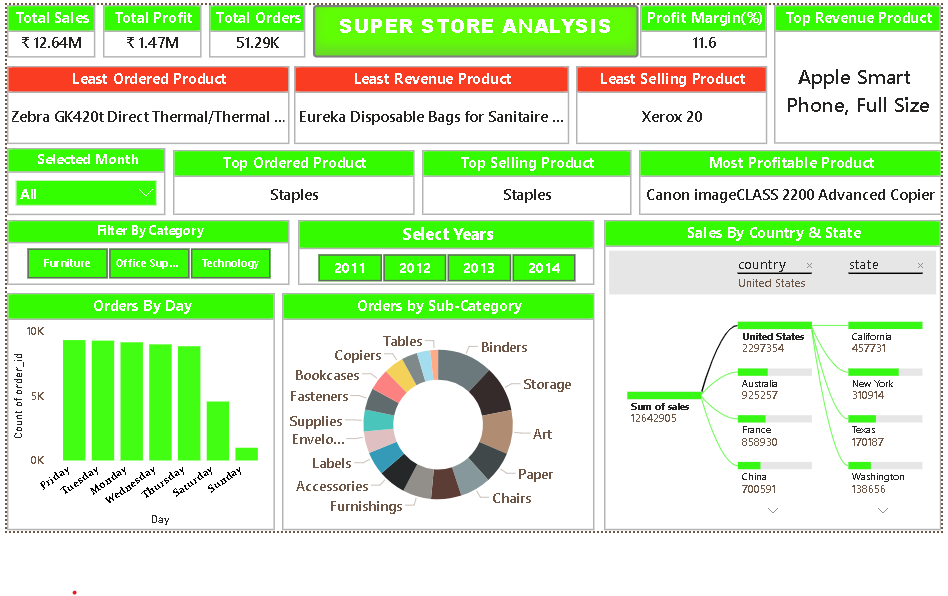

What the dashboard file says about the page in this screenshot:
{"tool":"powerbi","page":{"name":"Page 1","canvas":[1280,720],"ordinal":0},"visuals":[{"type":"card","title":"Total Sales","fields":{"Values":["SuperStoreOrders.Total_sales"]},"box":[0,0,121,72],"z":0},{"type":"card","title":"Total Profit","fields":{"Values":["SuperStoreOrders.Total_profit"]},"box":[131,0,135.4,72],"z":1000},{"type":"card","title":"Profit Margin(%)","fields":{"Values":["SuperStoreOrders.Profit_margin"]},"box":[866.9,0,174.2,72],"z":2000},{"type":"card","title":"Total Orders","fields":{"Values":["SuperStoreOrders.Total_orders"]},"box":[276.5,0,132.5,72],"z":3000},{"type":"card","title":"Least Selling Product","fields":{"Values":["SuperStoreOrders.Least_selling_product"]},"box":[779.5,83.6,261.6,106.8],"z":4000},{"type":"card","title":"Top Selling Product","fields":{"Values":["SuperStoreOrders.Top_selling_product"]},"box":[568.8,198.7,286.6,89.3],"z":5000},{"type":"card","title":"Top Revenue Product","fields":{"Values":["SuperStoreOrders.Top_revenue_product"]},"box":[1051.2,0,229,190.1],"z":6000},{"type":"card","title":"Least Revenue Product","fields":{"Values":["SuperStoreOrders.Least_revenue_product"]},"box":[393.2,83.6,376.7,106.8],"z":7000},{"type":"card","title":"Most Profitable Product","fields":{"Values":["SuperStoreOrders.Most_profitable_product"]},"box":[865.4,198.7,414.7,89.3],"z":8000},{"type":"card","title":"Least Ordered Product","fields":{"Values":["SuperStoreOrders.least_ordered_product"]},"box":[0,83.5,387.4,106.6],"z":9000},{"type":"card","title":"Top Ordered Product","fields":{"Values":["SuperStoreOrders.Most_ordered_product"]},"box":[227.5,198.7,331.2,89.3],"z":10000},{"type":"slicer","title":"Selected Month","fields":{"Values":["SuperStoreOrders.Month"]},"box":[0,195.8,217.4,92.2],"z":11000},{"type":"slicer","title":"Select Years","fields":{"Values":["SuperStoreOrders.year"]},"box":[398.9,295.2,406.1,89.3],"z":12000},{"type":"columnChart","title":"Orders By Day","fields":{"Category":["SuperStoreOrders.Day"],"Y":["CountNonNull(SuperStoreOrders.order_id)"]},"box":[0,394.6,367.2,325.4],"z":13000},{"type":"slicer","title":"Filter By Category","fields":{"Values":["SuperStoreOrders.category"]},"box":[0,295.2,387.4,89.3],"z":14000},{"type":"textbox","box":[419,0,446.4,72],"z":15000},{"type":"decompositionTreeVisual","title":"Sales By Country & State","fields":{"ExplainBy":["SuperStoreOrders.country","SuperStoreOrders.state"],"Analyze":["Sum(SuperStoreOrders.sales)"]},"box":[817.9,295.2,462.2,424.8],"z":16000},{"type":"donutChart","title":"Orders by Sub-Category","fields":{"Category":["SuperStoreOrders.sub_category"],"Y":["CountNonNull(SuperStoreOrders.order_id)"]},"box":[377.3,394.6,427.7,325.4],"z":16001}]}

Visuals, with their boxes in screenshot pixels (x1, y1, x2, y2):
"Total Sales" card: {"x1": 2, "y1": 2, "x2": 91, "y2": 55}
"Total Profit" card: {"x1": 98, "y1": 2, "x2": 197, "y2": 55}
"Profit Margin(%)" card: {"x1": 636, "y1": 2, "x2": 763, "y2": 55}
"Total Orders" card: {"x1": 204, "y1": 2, "x2": 301, "y2": 55}
"Least Selling Product" card: {"x1": 572, "y1": 64, "x2": 763, "y2": 142}
"Top Selling Product" card: {"x1": 418, "y1": 148, "x2": 627, "y2": 213}
"Top Revenue Product" card: {"x1": 770, "y1": 2, "x2": 938, "y2": 141}
"Least Revenue Product" card: {"x1": 290, "y1": 64, "x2": 565, "y2": 142}
"Most Profitable Product" card: {"x1": 635, "y1": 148, "x2": 937, "y2": 213}
"Least Ordered Product" card: {"x1": 2, "y1": 63, "x2": 285, "y2": 141}
"Top Ordered Product" card: {"x1": 169, "y1": 148, "x2": 411, "y2": 213}
"Selected Month" slicer: {"x1": 2, "y1": 145, "x2": 161, "y2": 213}
"Select Years" slicer: {"x1": 294, "y1": 218, "x2": 590, "y2": 283}
"Orders By Day" columnChart: {"x1": 2, "y1": 291, "x2": 271, "y2": 528}
"Filter By Category" slicer: {"x1": 2, "y1": 218, "x2": 285, "y2": 283}
textbox: {"x1": 309, "y1": 2, "x2": 635, "y2": 55}
"Sales By Country & State" decompositionTreeVisual: {"x1": 600, "y1": 218, "x2": 937, "y2": 528}
"Orders by Sub-Category" donutChart: {"x1": 278, "y1": 291, "x2": 590, "y2": 528}
